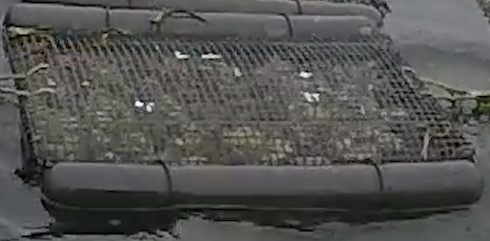bag: (3, 14, 482, 213)
